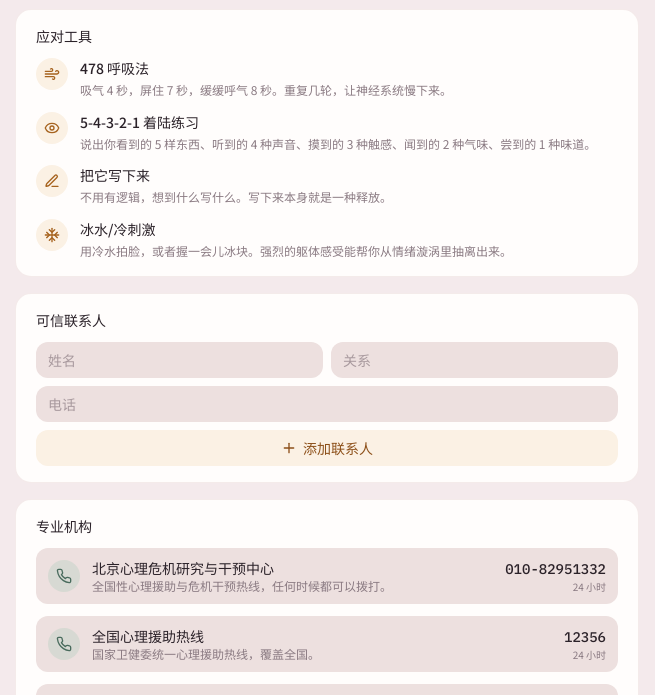
Test: Support › adds a trusted contact and clears the form
(page scrolled)
Expected: the button "添加联系人" is shown, [36, 430, 618, 466]
Type "小李" into the field with placeholder "姓名" at [180, 360], box [36, 342, 323, 378]
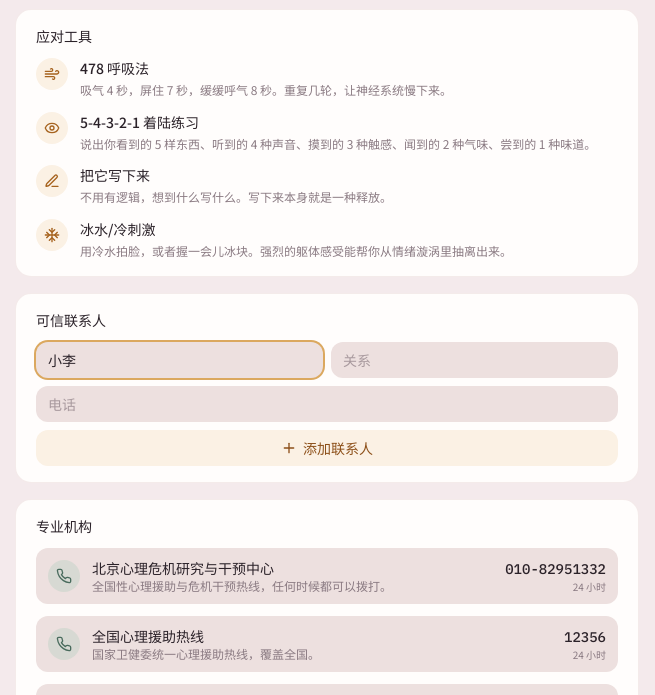
Type "朋友" into the field with placeholder "关系" at [474, 360], box [331, 342, 618, 378]
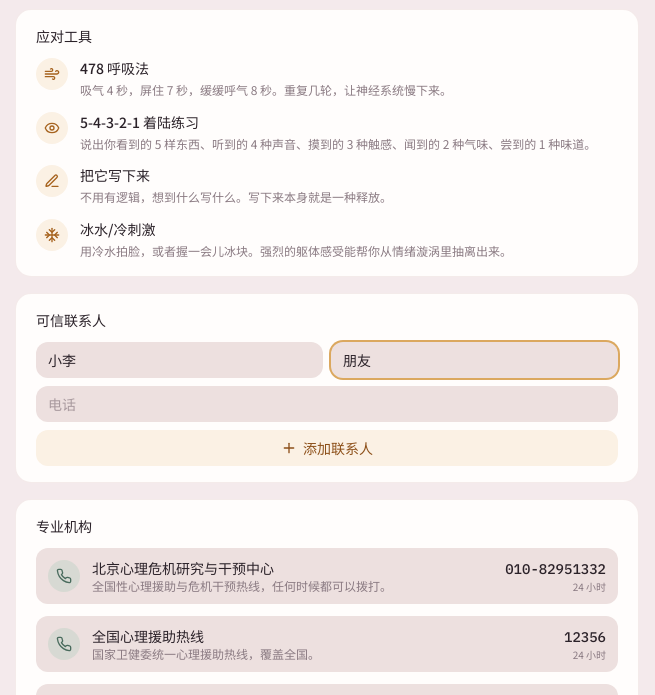
Type "13800000000" into the field with placeholder "电话" at [327, 404], box [36, 386, 618, 422]
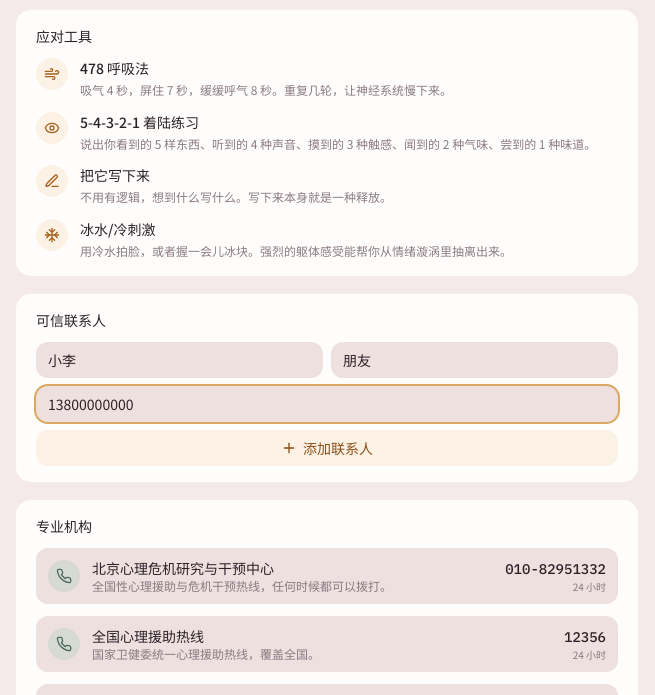
Click the button "添加联系人" at [327, 448], box [36, 430, 618, 466]
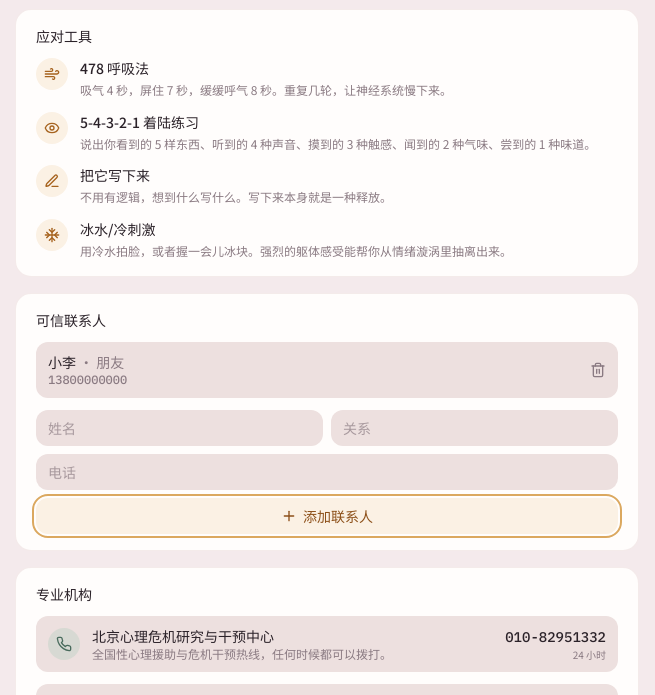
Result: the text "小李" is shown at [48, 352, 76, 372]
Result: the field with placeholder "姓名" is empty at [36, 410, 323, 446]
